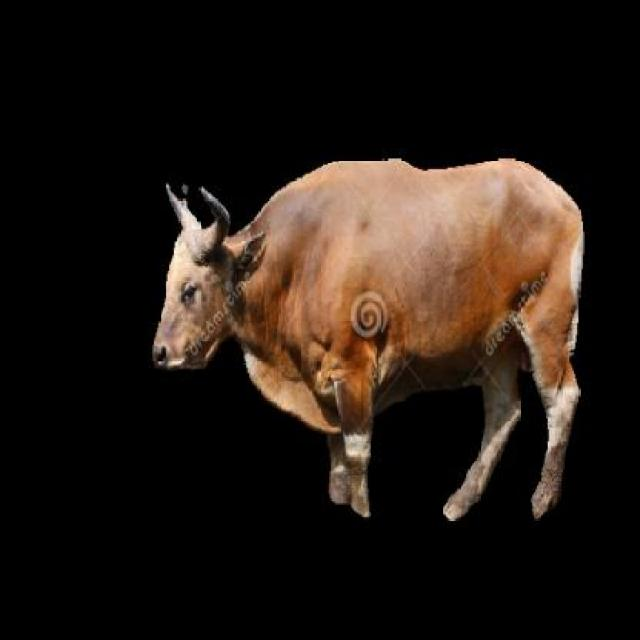Cow: (146, 142, 585, 526)
